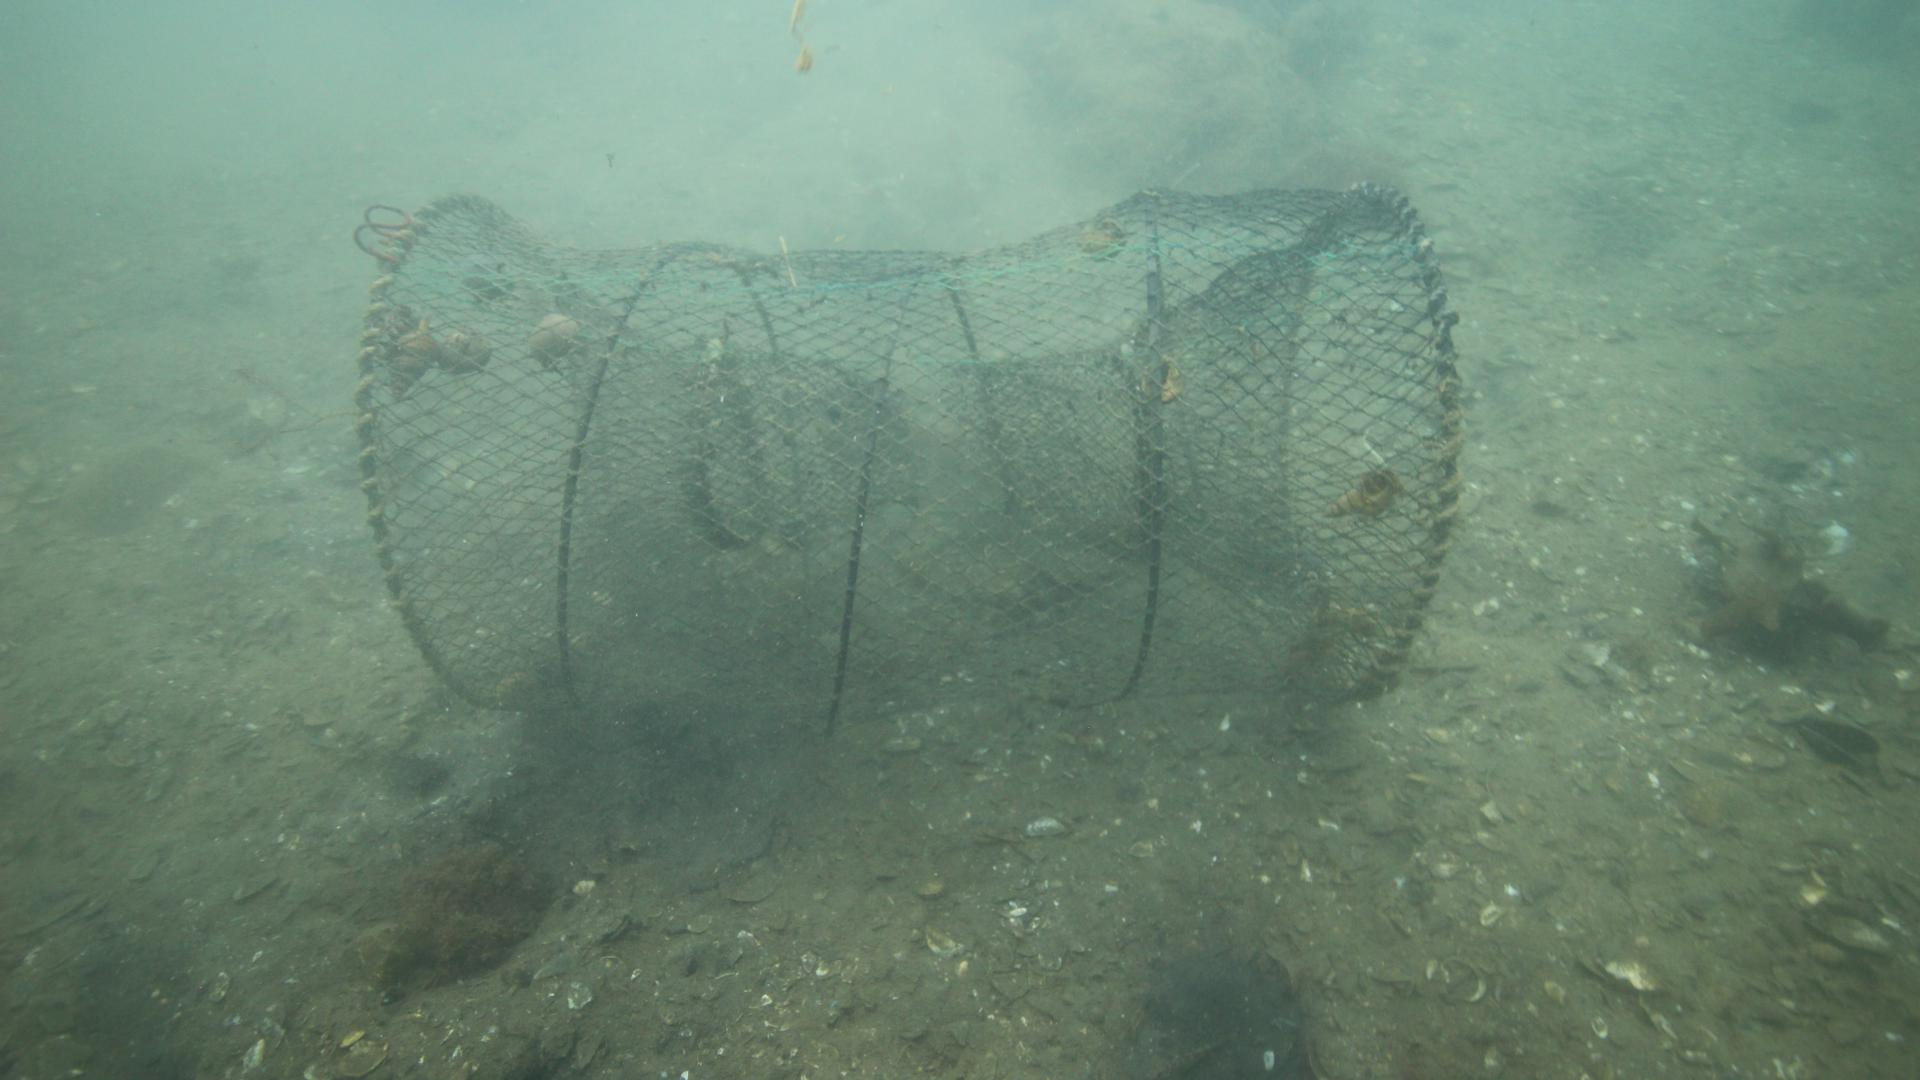spring fish trap: (349, 179, 1469, 719)
